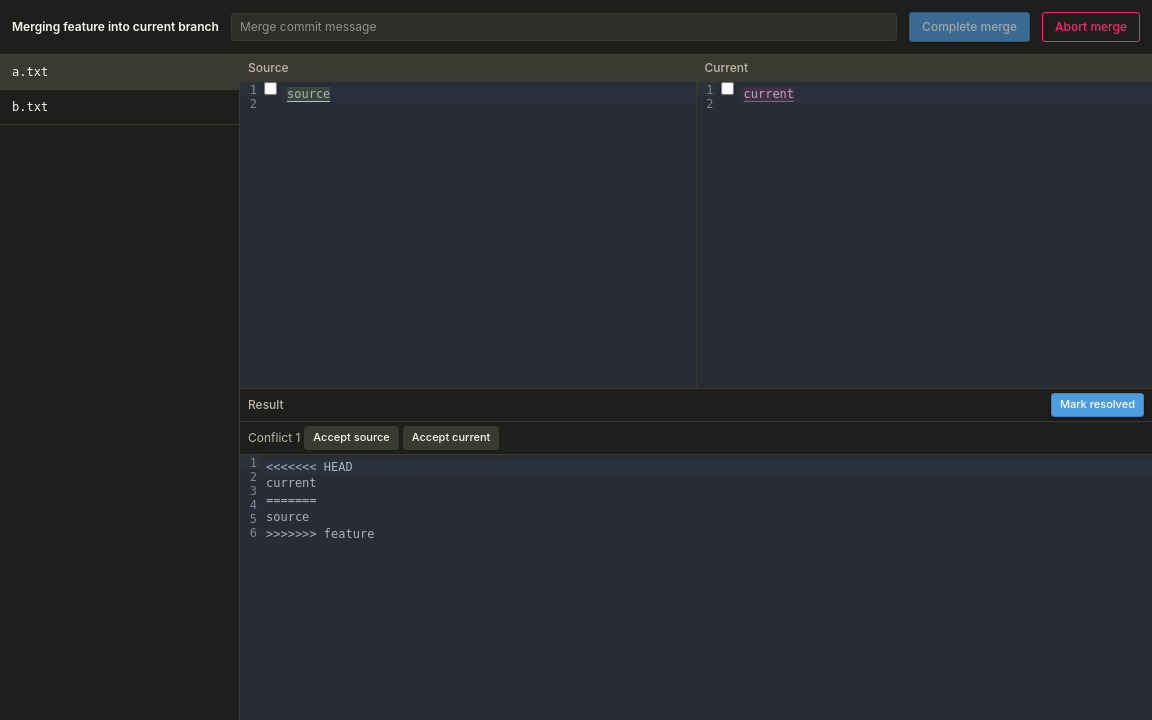
Scenario: MergeEditor › cancelling the unsaved-edits dialog stays on the current file
The width and height of the screenshot is (1152, 720).
Click the button "Accept current": (451, 438) [403,426,499,450]
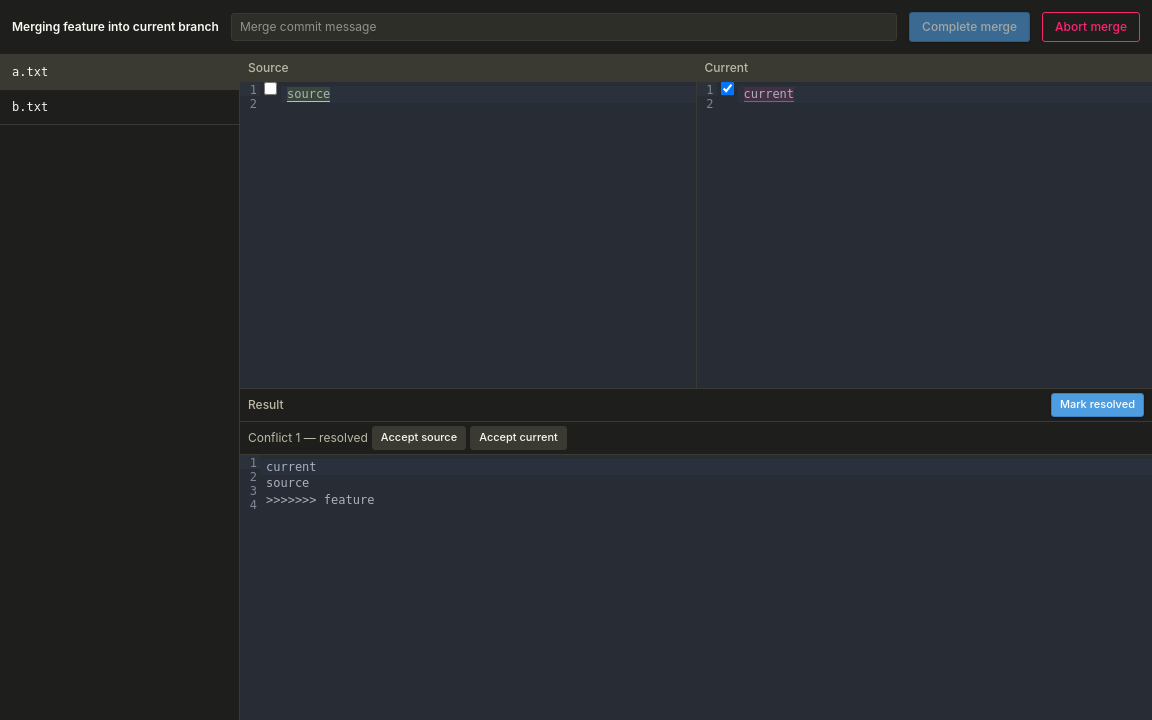
Click the button "b.txt": (120, 108) [0,90,239,125]
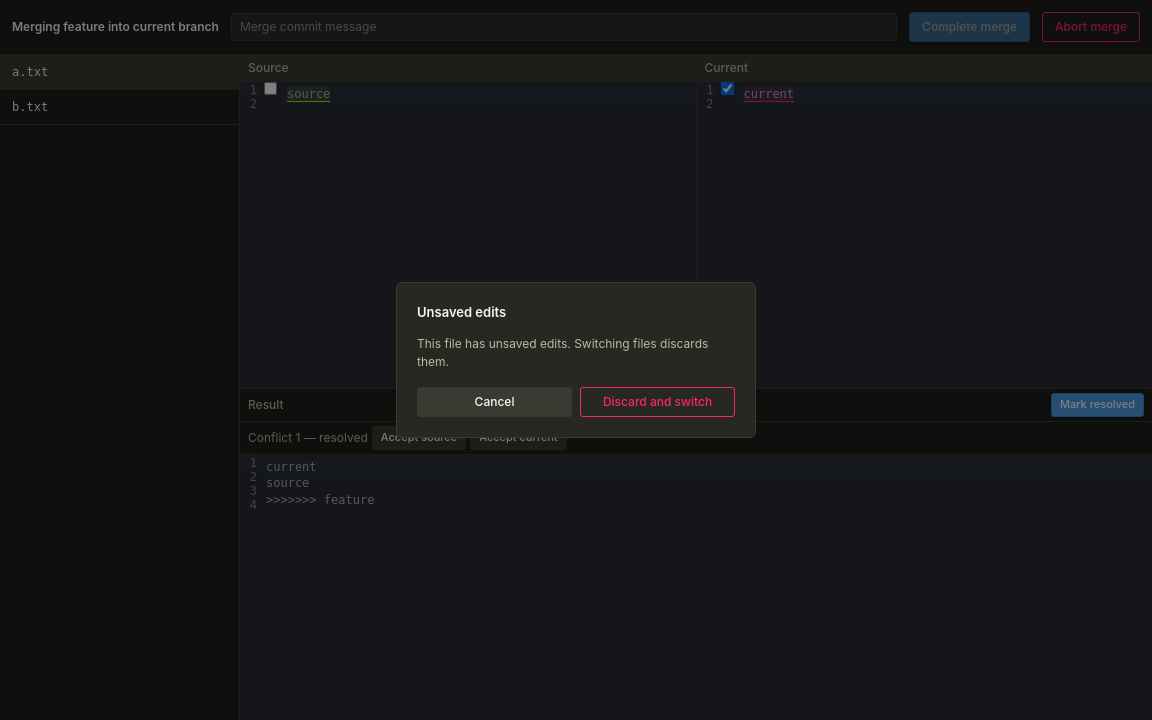
Click the button "Cancel": (494, 402) [417,387,572,417]
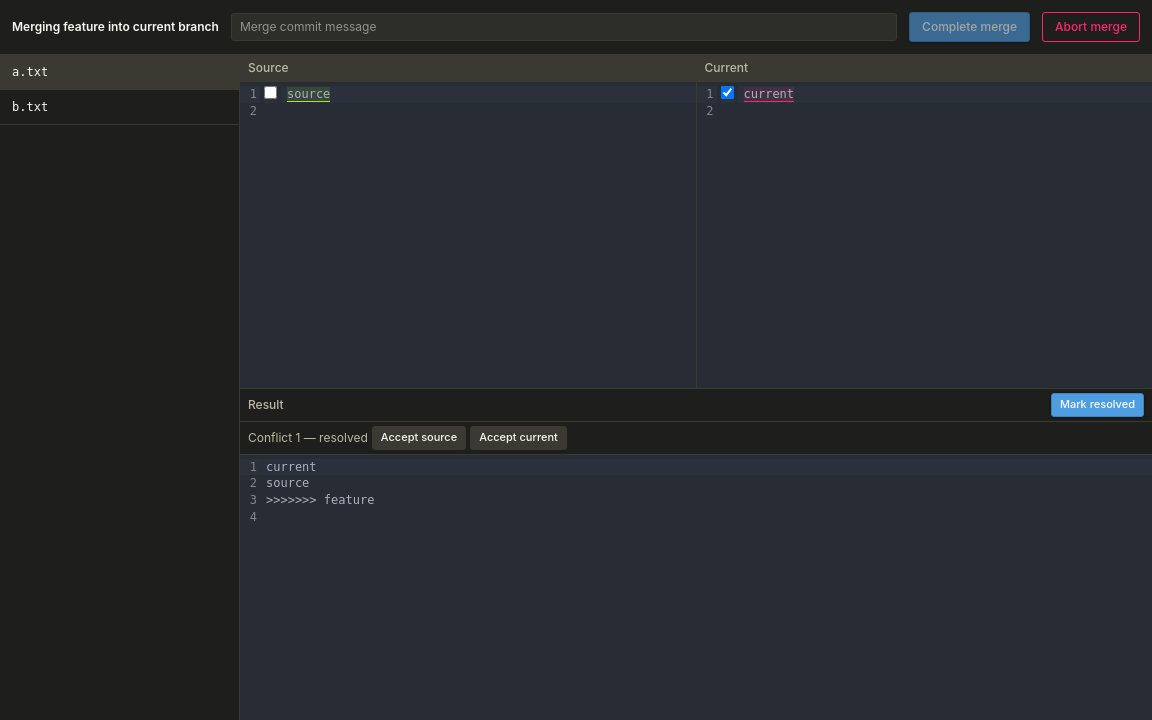
Expected: the element with test id "result-pane" does not show "current b", [240,454,1151,719]
Now the heading "Unsaved" is gone
